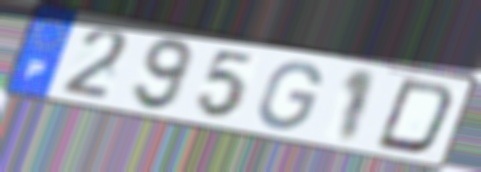1: (337, 68, 377, 147)
2: (57, 27, 130, 101)
5: (193, 47, 262, 120)
9: (129, 36, 194, 114)
D: (371, 76, 459, 158)
G: (255, 59, 325, 133)
